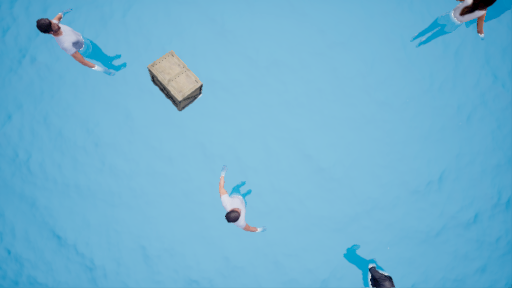person: (42, 10, 120, 80), (208, 166, 273, 242), (414, 2, 495, 57)
